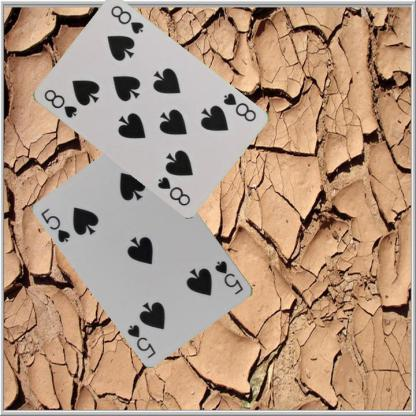5s: (38, 206, 72, 244), (212, 258, 245, 296)
8s: (41, 86, 78, 120), (220, 90, 257, 123)
